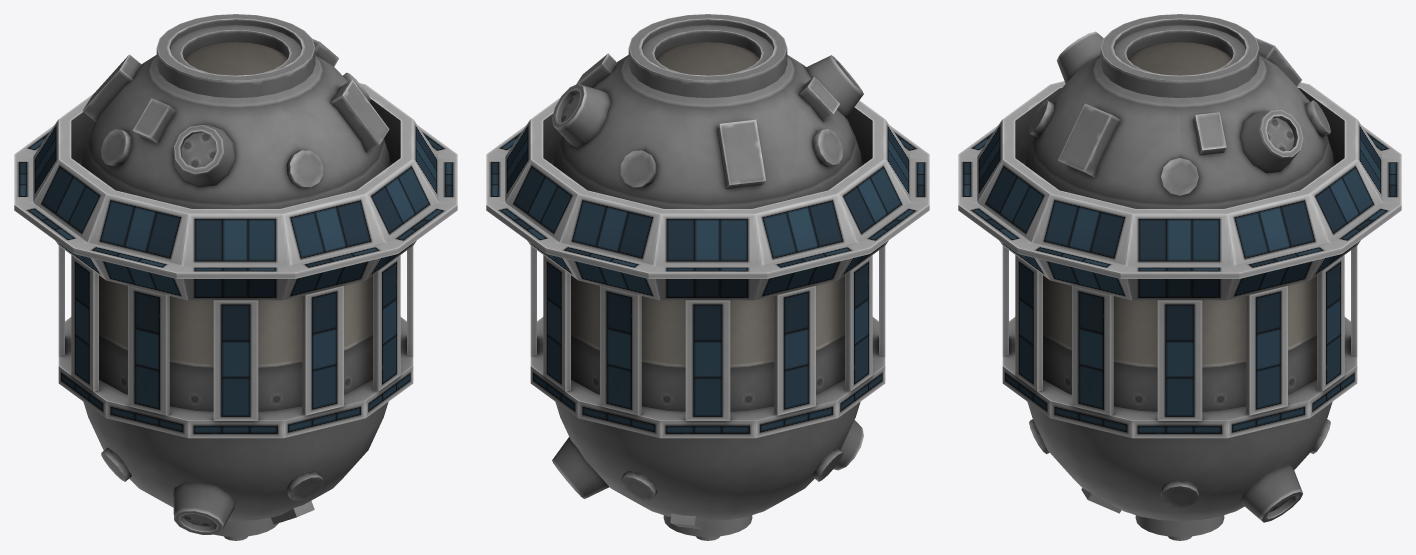
File: luna3.obj
3 views of the same model, side by side, from view 1: azimuth 30°, elevation 25°; view 2: azimuth 150°, elevation 25°; view 3: azimuth 270°, elevation 25° (orthographic).
Visible parts, largest first — view 1: luna, bottom luna, lense; view 2: luna, bottom luna, lense; view 3: luna, bottom luna, lense.
Boxes of the visible parts, x1=… form: luna: x1=14, y1=14, x2=457, y2=438; bottom luna: x1=83, y1=402, x2=388, y2=540; lense: x1=184, y1=42, x2=287, y2=75; luna: x1=486, y1=14, x2=929, y2=438; bottom luna: x1=552, y1=402, x2=863, y2=540; lense: x1=656, y1=42, x2=759, y2=75; luna: x1=958, y1=14, x2=1401, y2=438; bottom luna: x1=1027, y1=402, x2=1332, y2=540; lense: x1=1128, y1=42, x2=1231, y2=75.
Size of the model in its own units: 0.875 by 1.06 by 0.875.
